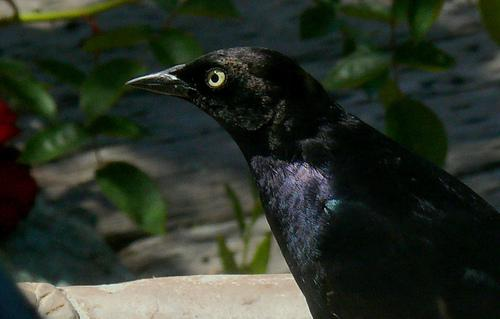009.Brewer_Blackbird: (122, 45, 500, 318)
